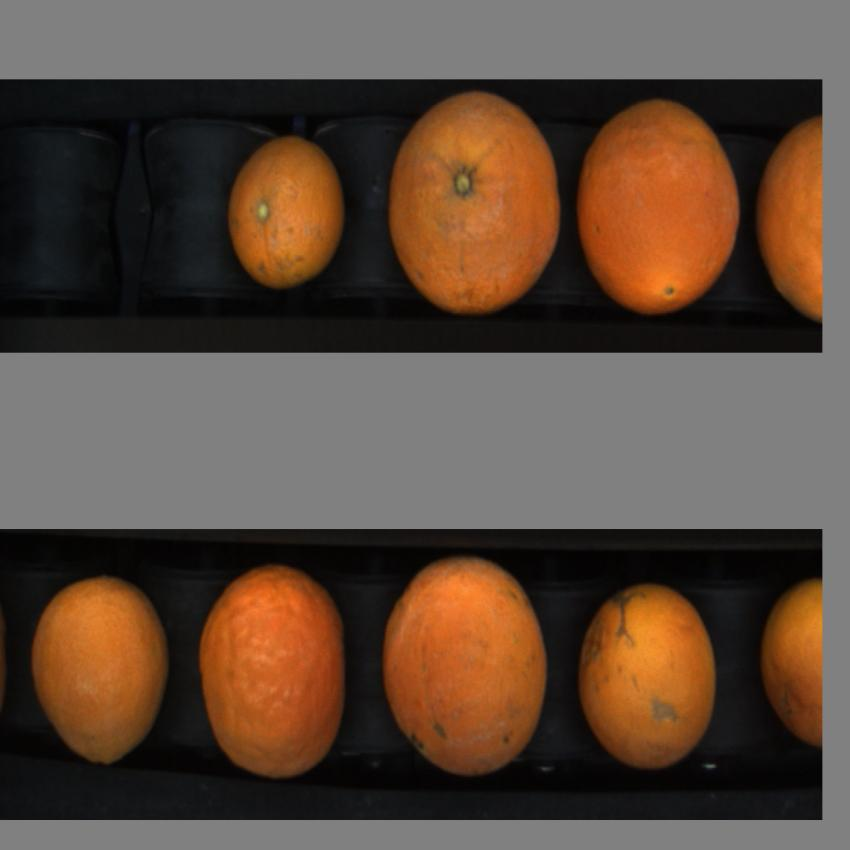Buen estado: (383, 100, 567, 316), (381, 561, 554, 781), (575, 572, 727, 771), (27, 580, 173, 774), (225, 132, 348, 291), (754, 114, 821, 324), (756, 569, 822, 754)
Mal estado: (576, 104, 745, 322), (198, 560, 349, 778)
